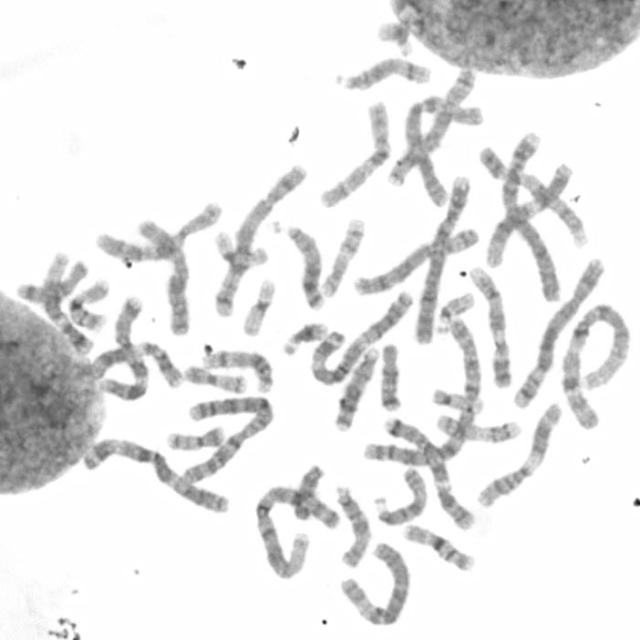A1: (557, 302, 631, 431), (252, 481, 344, 581)
A2: (368, 316, 484, 470), (178, 391, 276, 484)
A3: (79, 433, 231, 514), (310, 288, 418, 386)
B4: (410, 176, 473, 346), (494, 135, 557, 303)
B5: (210, 158, 309, 320), (510, 253, 607, 407)
C10: (315, 106, 393, 211), (92, 202, 223, 264)
C11: (473, 401, 564, 510), (87, 339, 184, 392)
C12: (485, 164, 580, 269), (41, 251, 93, 356)
C6: (402, 96, 497, 207), (334, 538, 411, 627)
C7: (379, 412, 477, 532), (93, 292, 150, 405)
C8: (382, 68, 477, 190), (348, 225, 481, 300)
C9: (478, 148, 594, 246), (467, 265, 512, 390)
D13: (329, 348, 381, 432), (278, 219, 326, 309)
D14: (201, 345, 277, 392), (334, 54, 432, 87)
D15: (331, 482, 373, 568), (372, 463, 427, 527)
E16: (401, 520, 477, 571), (65, 274, 112, 332)
E17: (318, 214, 367, 298), (434, 412, 522, 445)
E18: (12, 256, 88, 304), (376, 340, 403, 412)
F19: (239, 274, 278, 338), (211, 227, 271, 268)
F20: (180, 361, 248, 394), (163, 422, 227, 452)
G21: (279, 317, 330, 358), (374, 17, 413, 56)
G22: (431, 288, 477, 334), (430, 384, 474, 413)
X: (138, 215, 193, 338)
Y: (288, 465, 326, 523)
